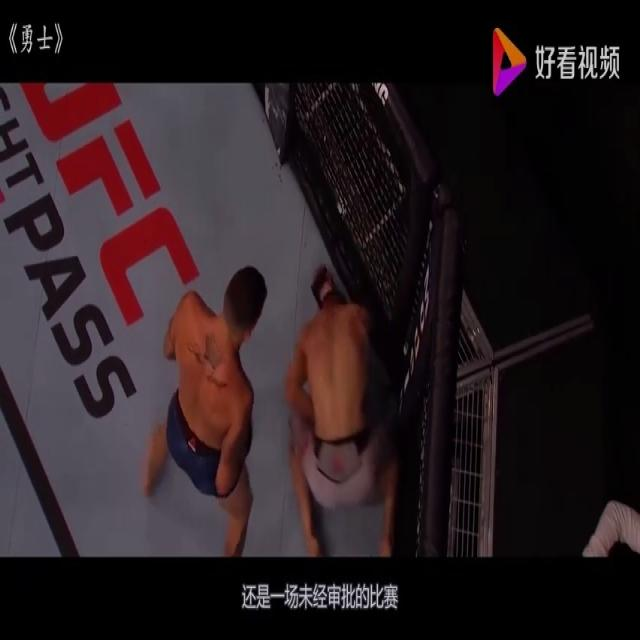fight: (142, 255, 399, 556)
